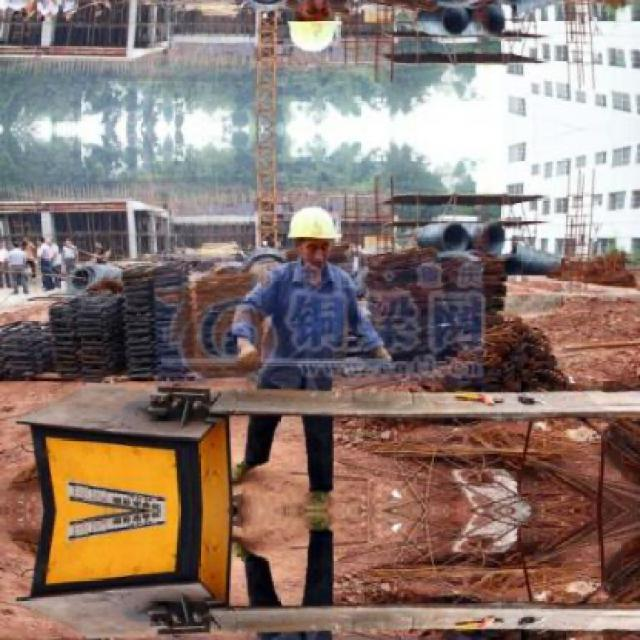helmet: (284, 203, 342, 268), (283, 0, 342, 54)
